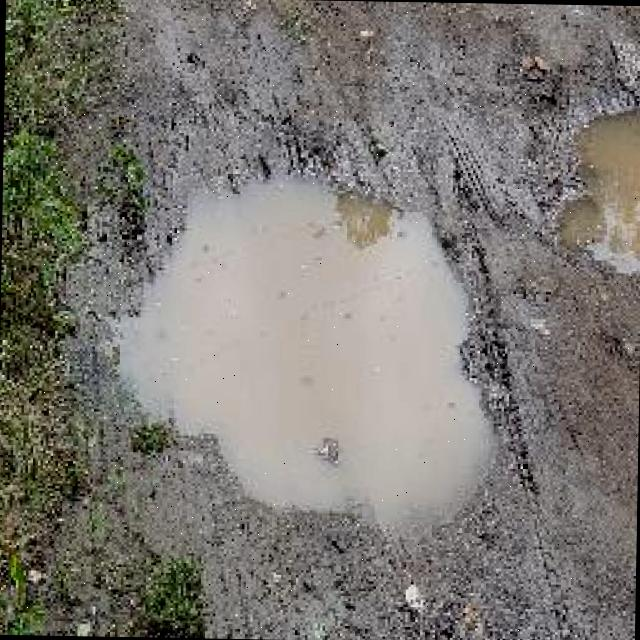stagnation: (85, 165, 482, 566)
